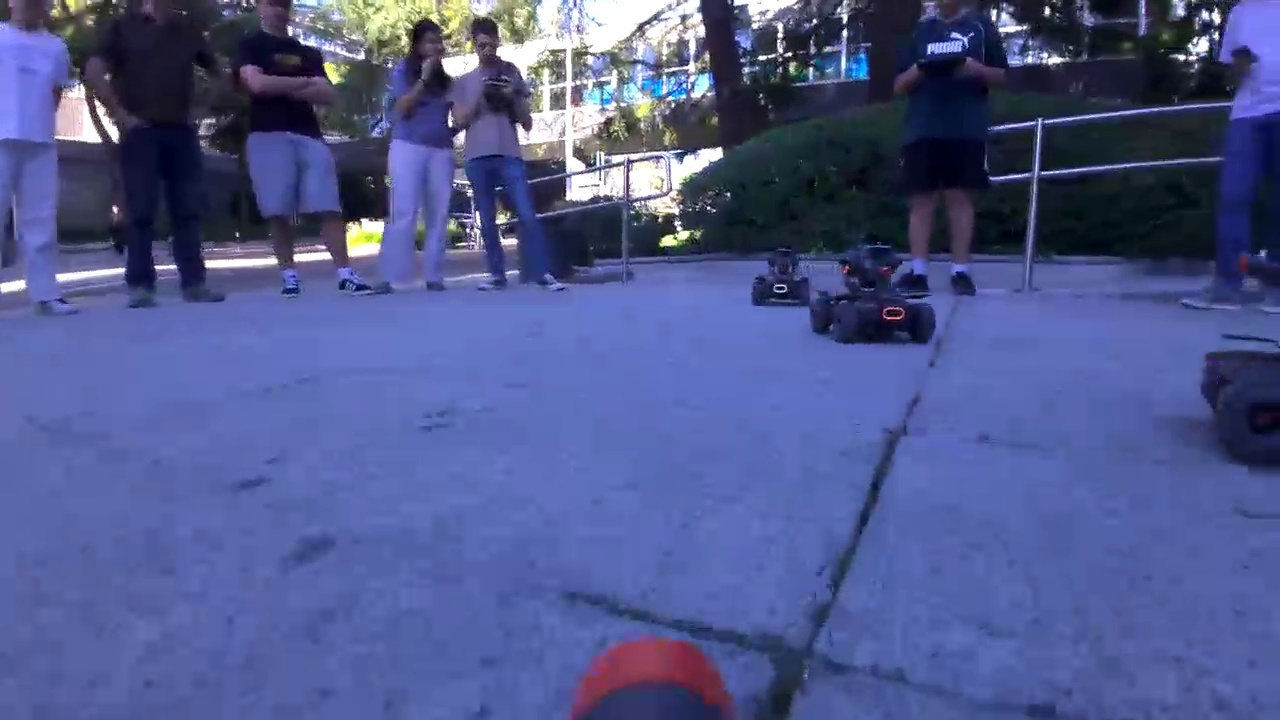robot: (818, 231, 946, 361), (1200, 350, 1280, 462), (737, 233, 816, 313)
